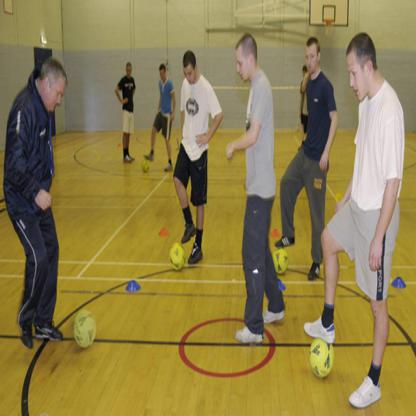face: (348, 55, 369, 101), (45, 82, 65, 112), (236, 48, 251, 81), (306, 48, 318, 76), (184, 67, 195, 85), (127, 67, 132, 79), (161, 70, 166, 81)
